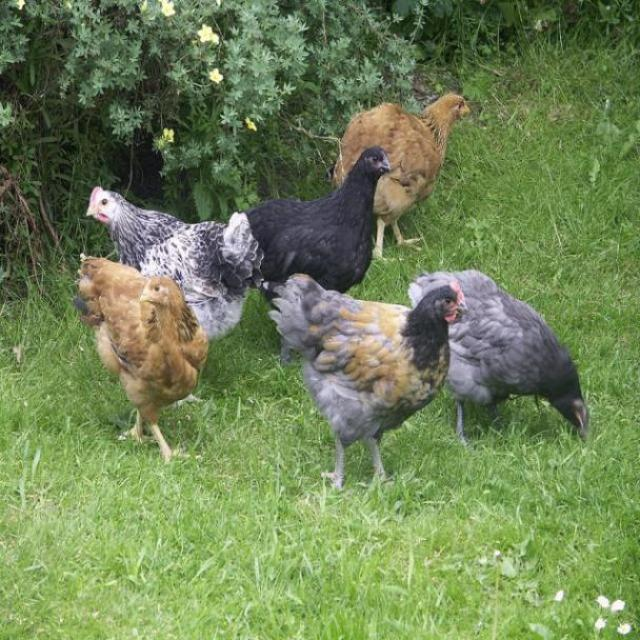Chicken: (254, 263, 469, 501), (80, 176, 278, 403), (239, 141, 402, 353), (400, 264, 586, 449), (67, 270, 220, 472), (328, 82, 477, 283)
